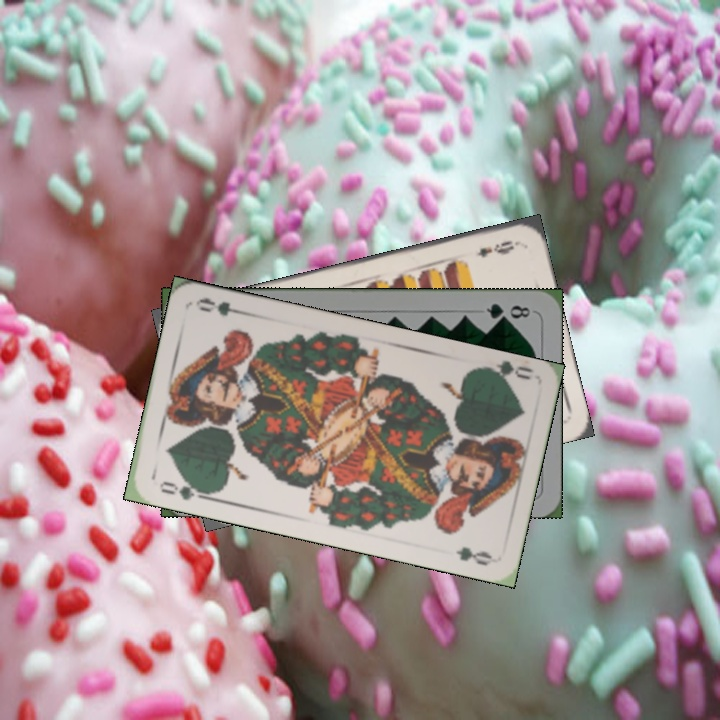E9: (473, 236, 520, 261)
G8: (482, 299, 533, 323)
GO: (476, 358, 535, 388), (155, 476, 211, 503)
